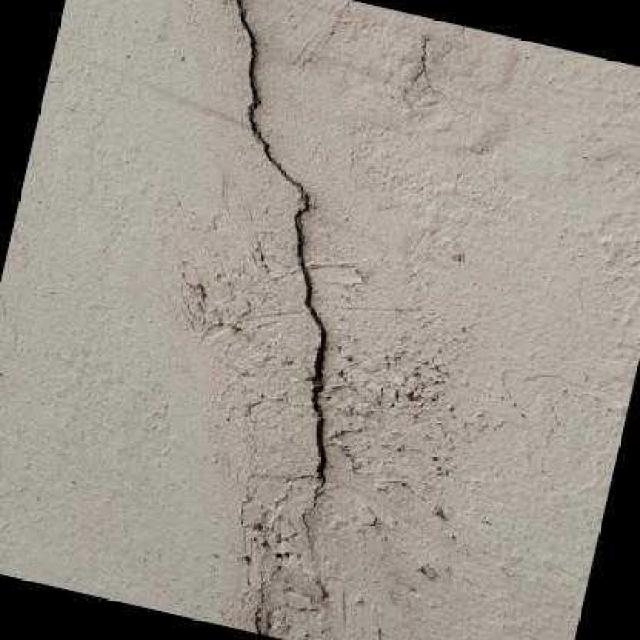D00: (235, 0, 328, 479)
